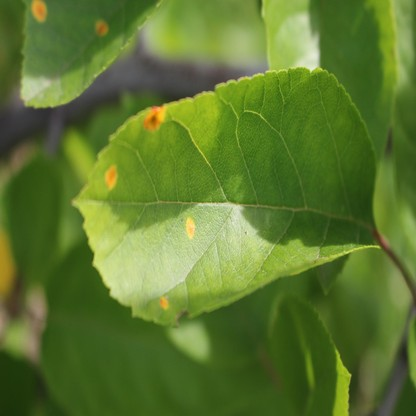rust: (143, 105, 167, 129), (30, 1, 47, 22), (105, 165, 118, 188), (185, 218, 196, 242), (96, 20, 109, 35), (160, 297, 169, 311)
